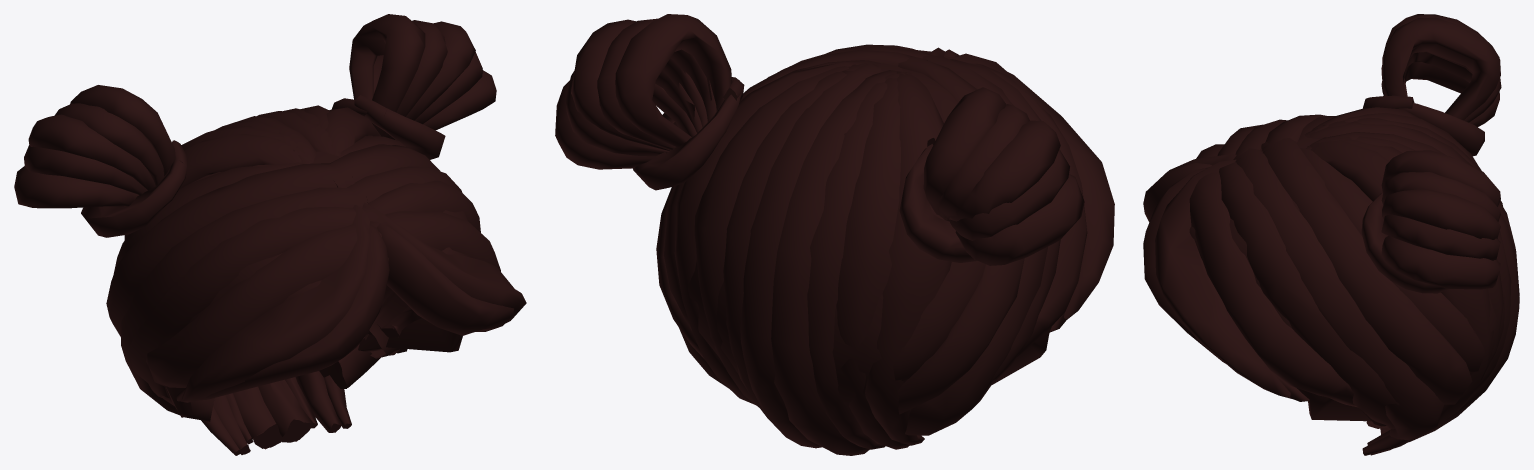
The model's file is hair-5-69f30566.glb.
3 views of the same model, side by side, from view 1: azimuth 30°, elevation 25°; view 2: azimuth 150°, elevation 25°; view 3: azimuth 270°, elevation 25° (orthographic). The views are drawn at different scales.
Visible parts, largest first — view 1: hair_5.001; view 2: hair_5.001; view 3: hair_5.001.
Part boxes in pixels (x1,y1,x2,y2): hair_5.001: [14, 14, 526, 455]; hair_5.001: [555, 14, 1114, 455]; hair_5.001: [1143, 14, 1519, 455].
Bounding box in the file's own units: 2.63 × 2.02 × 1.94.
